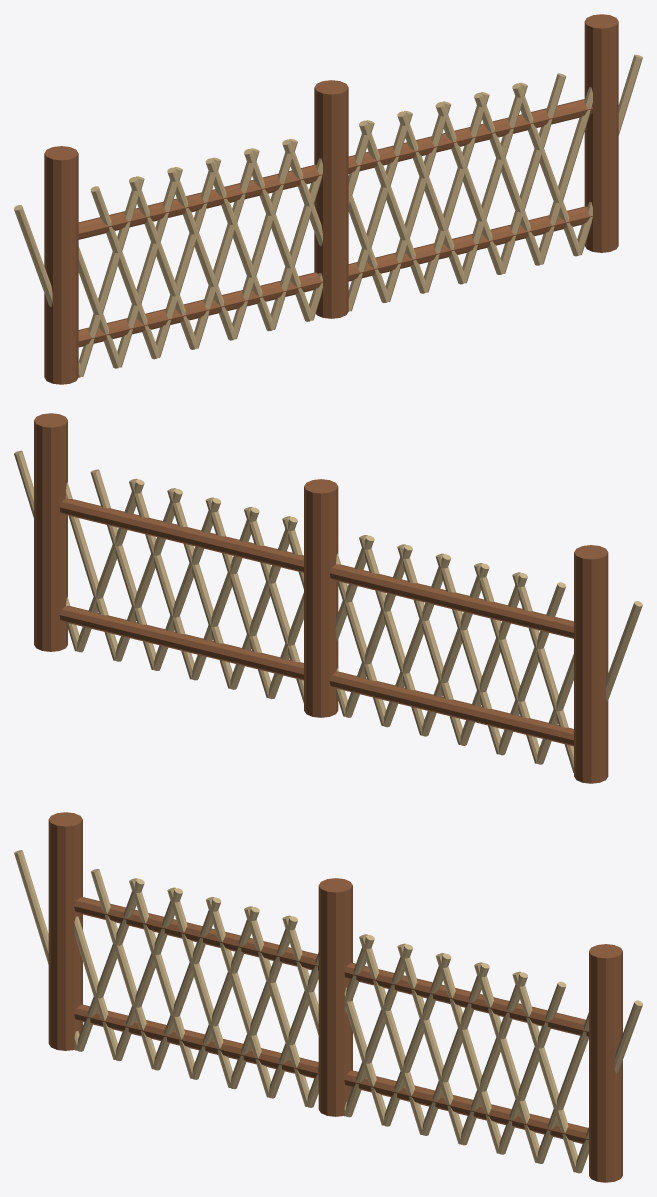
The model's file is 092_woven_palm_fence.glb.
The picture shows the model from 3 angles, top to bottom: view 1: azimuth 30°, elevation 25°; view 2: azimuth 150°, elevation 25°; view 3: azimuth 330°, elevation 25°; orthographic projection.
Parts seen in each view (by area): view 1: Woven palm fence; view 2: Woven palm fence; view 3: Woven palm fence.
Part boxes in pixels (<box>): Woven palm fence: <box>14,14,642,384</box>; Woven palm fence: <box>14,413,642,783</box>; Woven palm fence: <box>14,812,642,1182</box>.
Bounding box in the file's own units: 3.6 × 1.24 × 0.17.
